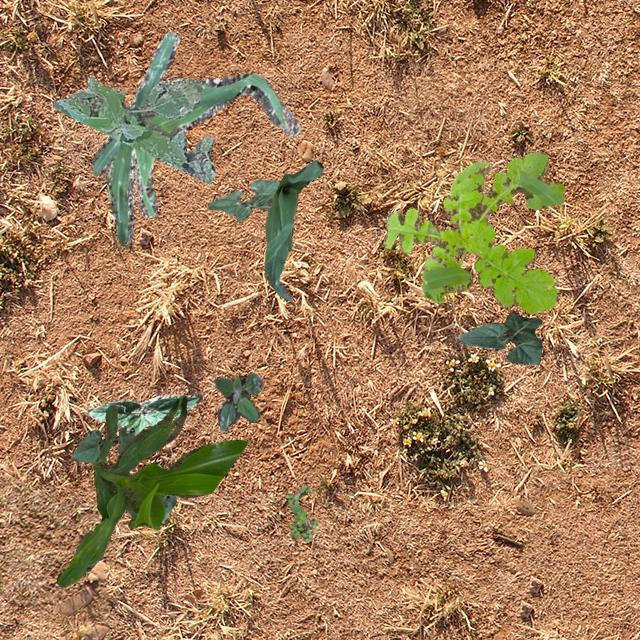crop: (90, 32, 298, 248), (56, 394, 246, 586), (264, 158, 322, 300), (86, 394, 200, 434), (456, 311, 540, 364), (206, 178, 278, 222), (70, 427, 134, 462), (152, 461, 176, 524)
weed: (382, 152, 564, 312), (52, 76, 214, 184), (214, 372, 262, 429), (284, 484, 318, 542)
